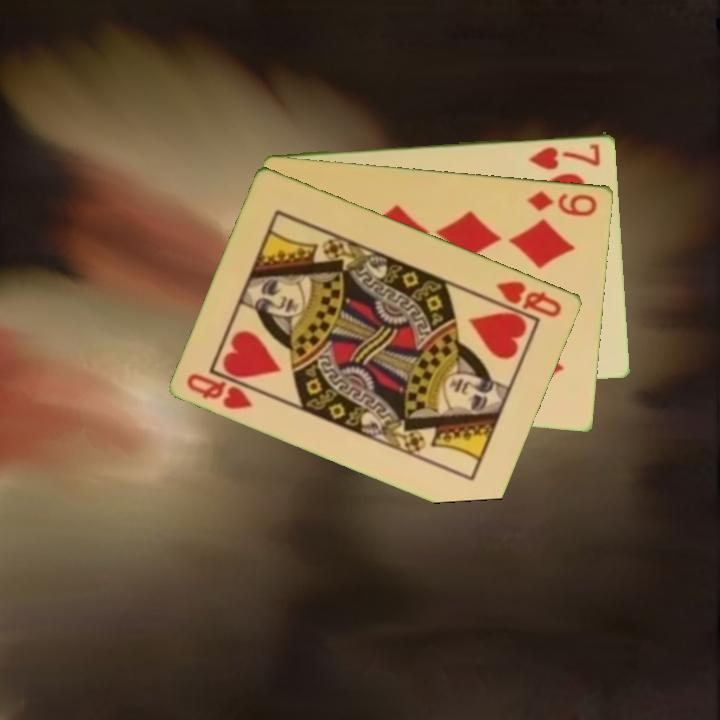7h: (525, 139, 604, 172)
9d: (524, 187, 600, 219)
Qh: (183, 369, 256, 412), (493, 277, 565, 320)
